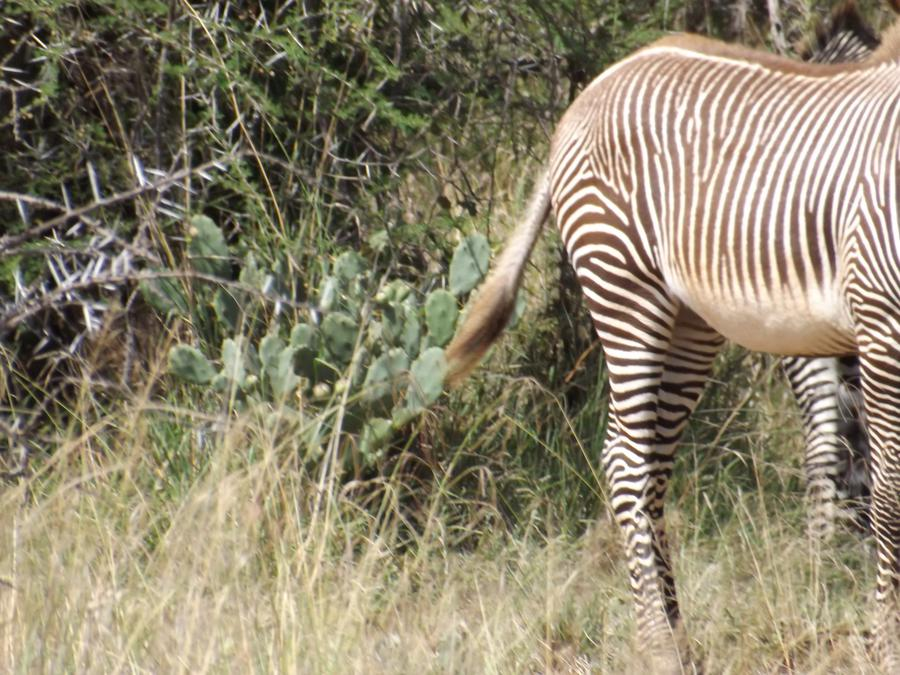zebra_grevys: (547, 3, 893, 337)
